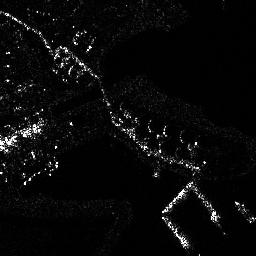ship: (234, 198, 256, 225)
